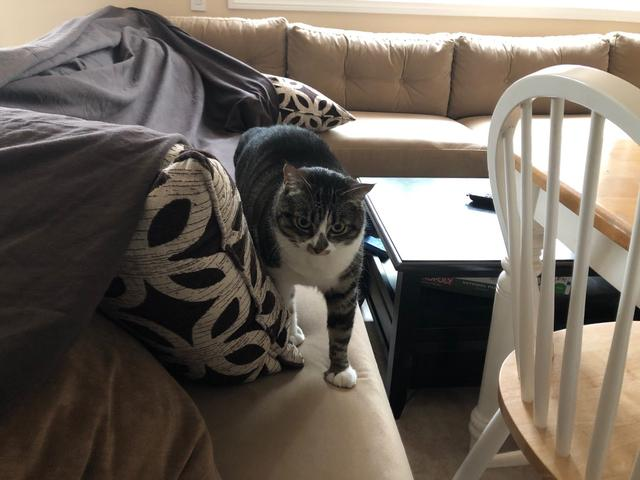playdoh: (224, 124, 373, 389)
